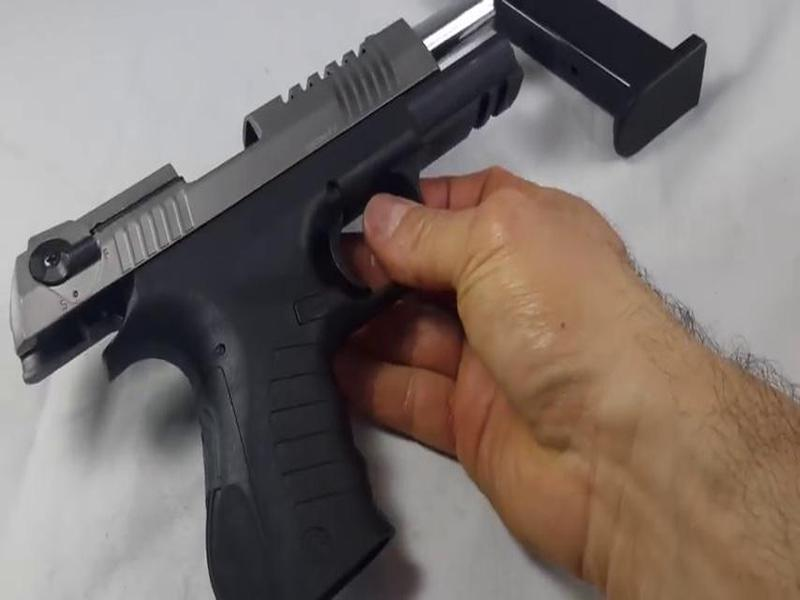Pistola: (17, 2, 525, 591)
